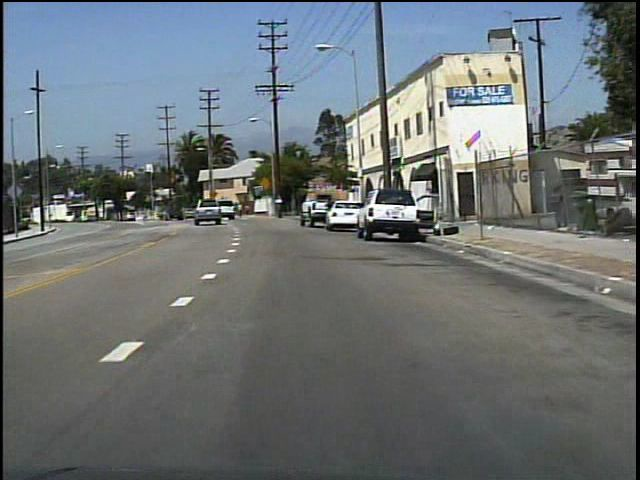person: (323, 194, 341, 230), (244, 202, 254, 220), (238, 199, 246, 220)
